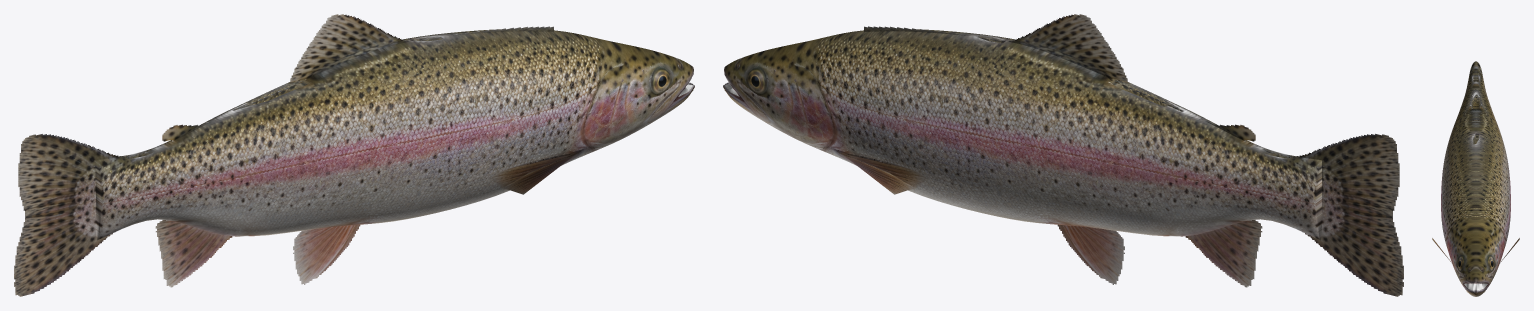
File: rainbow_trout.glb
The picture shows the model from 3 angles, left to right: view 1: azimuth 30°, elevation 25°; view 2: azimuth 150°, elevation 25°; view 3: azimuth 270°, elevation 25°; orthographic projection. The views are drawn at different scales.
Parts seen in each view (by area): view 1: rainbow_trout_realistic.003; view 2: rainbow_trout_realistic.003; view 3: rainbow_trout_realistic.003.
Part boxes in pixels (x1,y1,x2,y2): rainbow_trout_realistic.003: [14, 14, 694, 296]; rainbow_trout_realistic.003: [723, 14, 1403, 296]; rainbow_trout_realistic.003: [1432, 61, 1519, 296].
Bounding box in the file's own units: 1 × 0.3691 × 0.1746.
3 materials, 3 textured.
